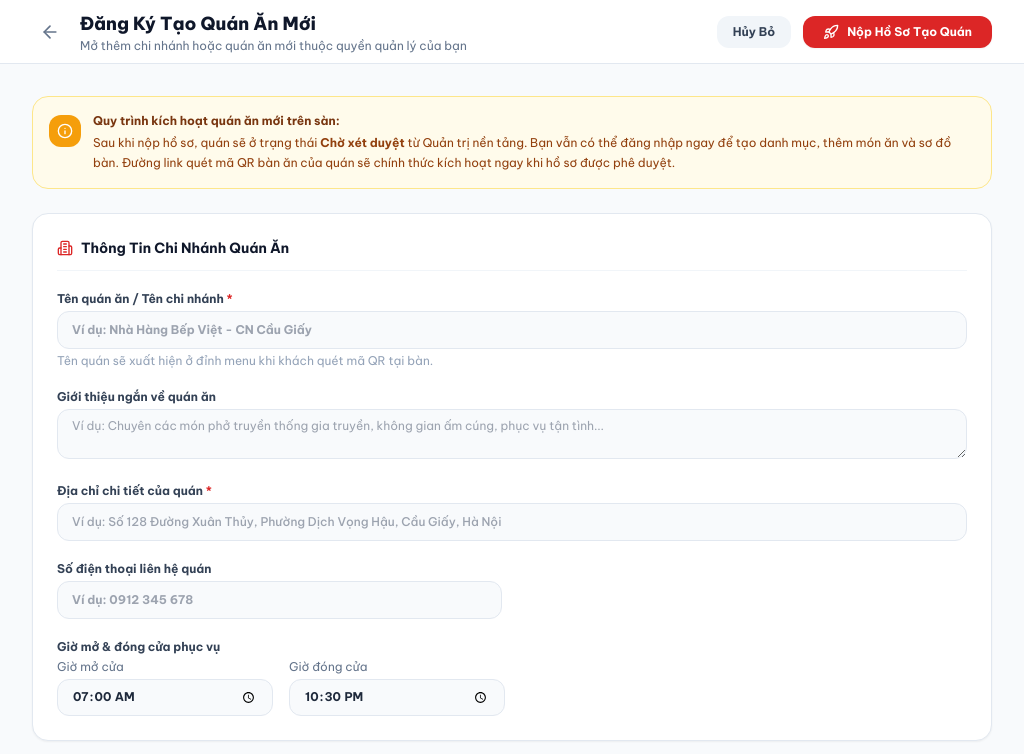
it: Story P2: ShopCreate Component (mockup a14-create-shop) › validates required fields: shop name and address
# Submit with empty fields
Click the button with test id "shop-create-submit-btn" at (898, 32), box [803,16,992,48]
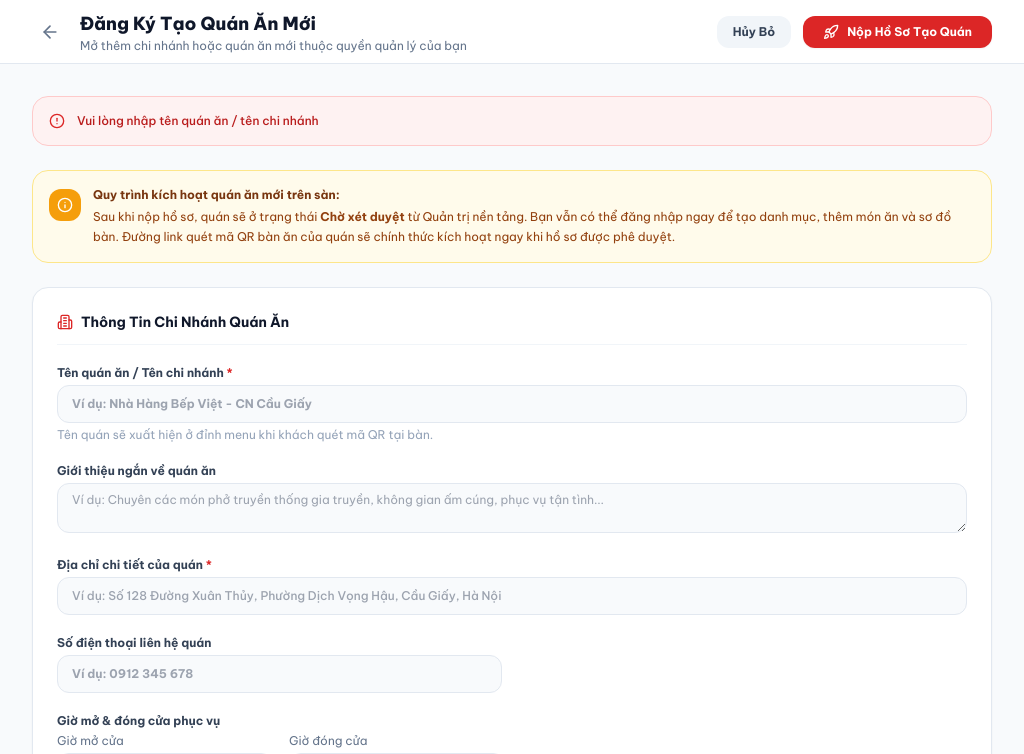
Check: the text "Vui lòng nhập tên quán ăn / tên chi nhánh" is shown, box [77,113,319,129]
# Fill name but leave position empty
Type "Nhà Hàng Bếp Việt - CN 2" into the field with test id "shop-name-input" at (512, 404), box [57,385,967,423]
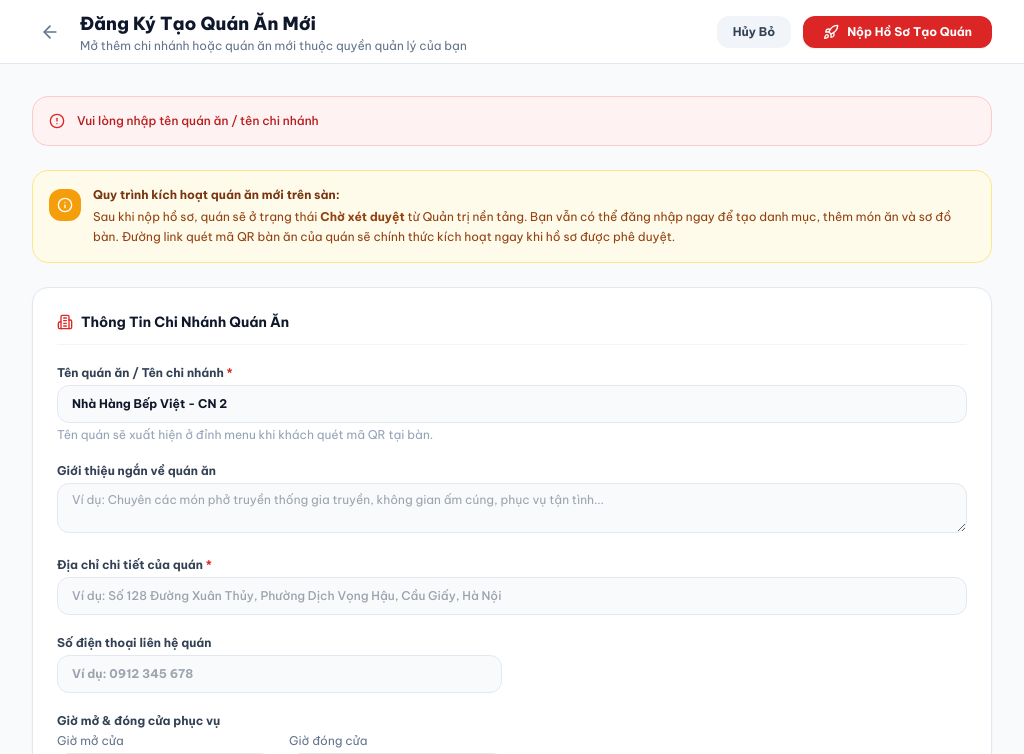
Click the button with test id "shop-create-submit-btn" at (898, 32), box [803,16,992,48]
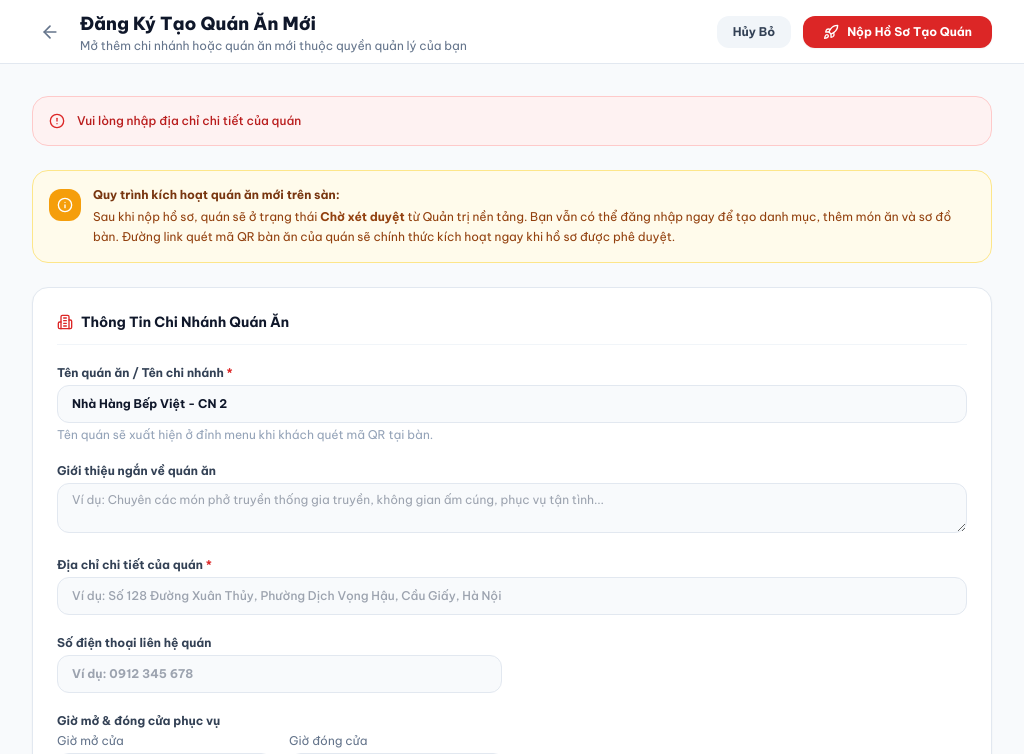
Check: the text "Vui lòng nhập địa chỉ chi tiết của quán" is shown, box [77,113,301,129]
